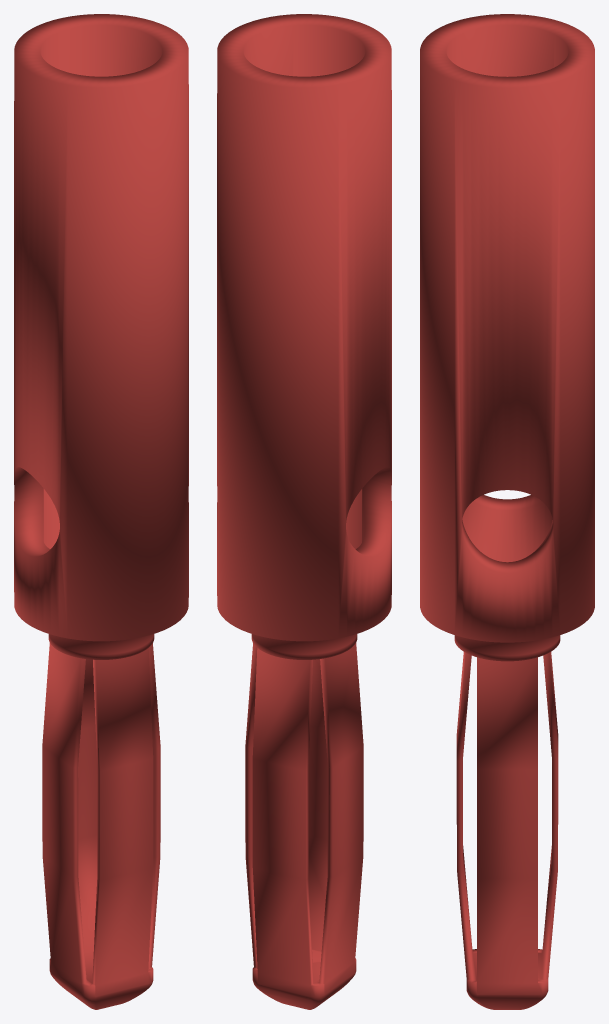
Rendered from wire_stable.glb.
The picture shows the model from 3 angles, left to right: view 1: azimuth 30°, elevation 25°; view 2: azimuth 150°, elevation 25°; view 3: azimuth 270°, elevation 25°; orthographic projection.
Parts seen in each view (by area): view 1: dildo (1); view 2: dildo (1); view 3: dildo (1).
Part boxes in pixels (bbox=[...]): dildo (1): bbox=[14, 14, 188, 1009]; dildo (1): bbox=[217, 14, 391, 1009]; dildo (1): bbox=[420, 14, 594, 1009].
Bounding box in the file's own units: 7.26 × 43.69 × 7.25.
